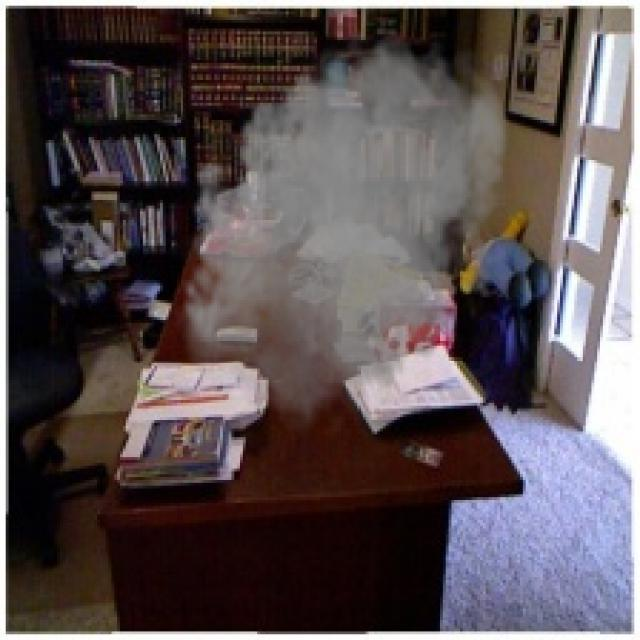Smoke: (172, 23, 514, 446)
